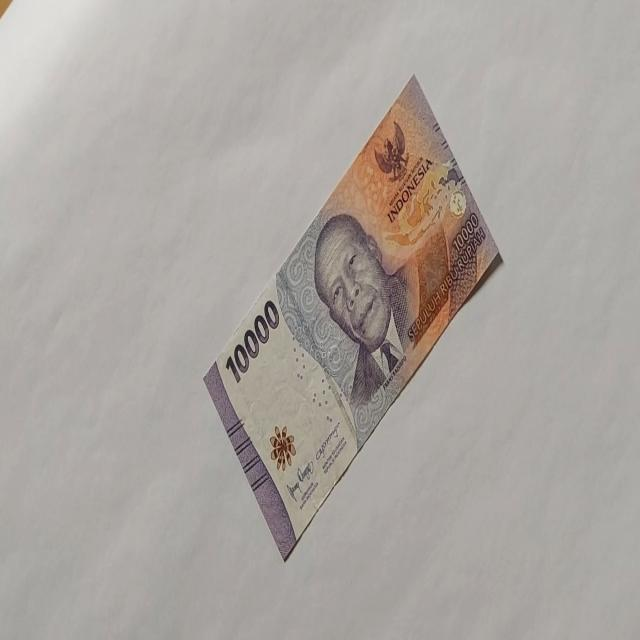sepuluh ribu rupiah: (202, 72, 502, 562), (224, 297, 280, 385)
